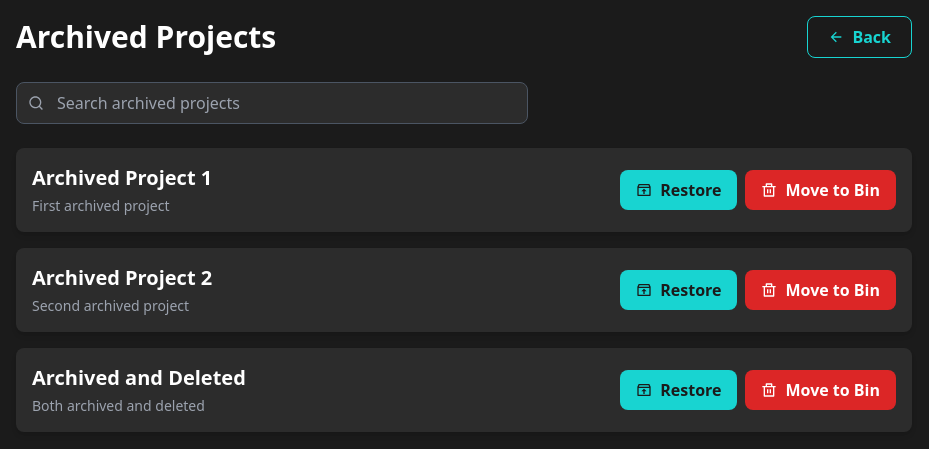
Test case: ArchivePage Component › filters projects by description
Expected: the button "Archived Project 1" is shown, [32,164,212,192]
Type "First archived" into the field with placeholder "Search archived projects" at (272, 103), box [16,82,528,124]
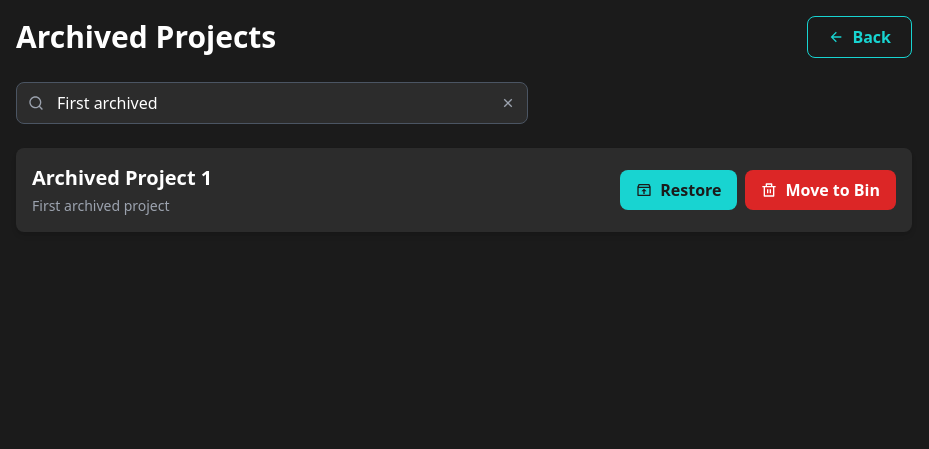
Expected: the button "Archived Project 1" is shown, [32,164,212,192]
Now the button "Archived Project 2" is gone
